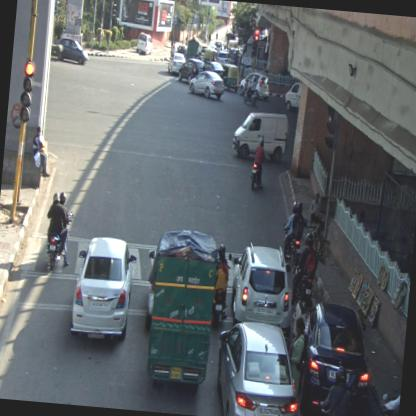car: (214, 318, 309, 415), (301, 299, 377, 415), (70, 235, 139, 344), (228, 240, 298, 326), (232, 108, 291, 164), (188, 70, 225, 102), (55, 36, 90, 66), (239, 71, 271, 101), (179, 56, 206, 82), (284, 80, 302, 118), (136, 32, 155, 58), (168, 51, 186, 74)
motorcycle: (42, 190, 76, 272), (279, 198, 305, 272), (212, 243, 234, 329), (294, 232, 318, 304), (377, 370, 403, 415), (248, 138, 266, 196), (244, 77, 260, 105)
truck: (144, 228, 219, 398), (187, 36, 203, 61)
